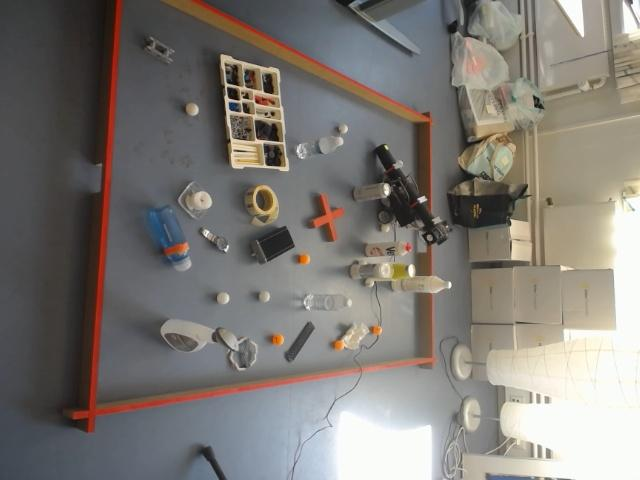orange: (273, 334, 284, 346), (299, 254, 310, 264), (335, 340, 345, 351), (372, 325, 382, 335)
robot: (372, 144, 452, 246)
robot-front: (375, 144, 395, 167)
white: (186, 103, 199, 116), (216, 292, 230, 304), (259, 291, 270, 302), (339, 123, 348, 134), (365, 279, 374, 287), (381, 224, 390, 232)
